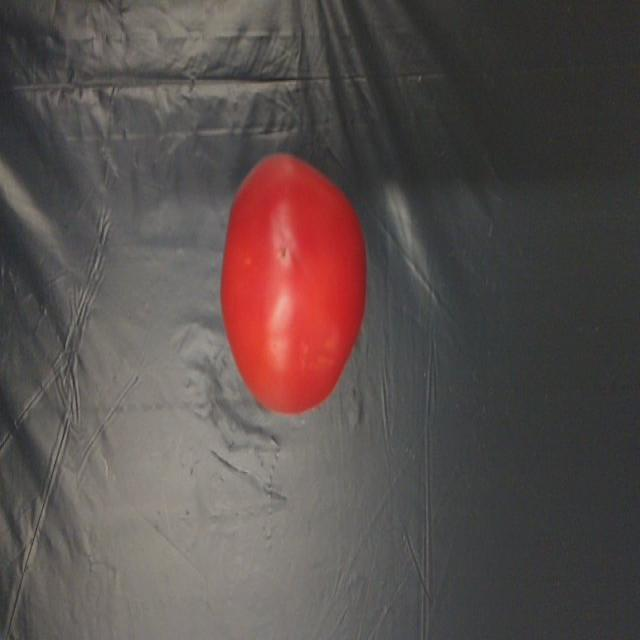kirmizi: (223, 146, 373, 412)
